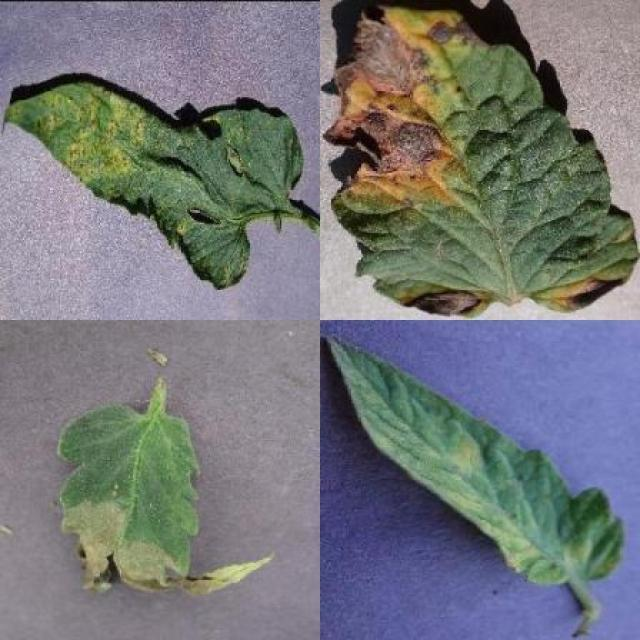Early Blight: (327, 0, 639, 320)
Late Blight: (56, 374, 274, 600)
Leaf Mold: (325, 332, 625, 588)
Septoria: (2, 80, 305, 290)
